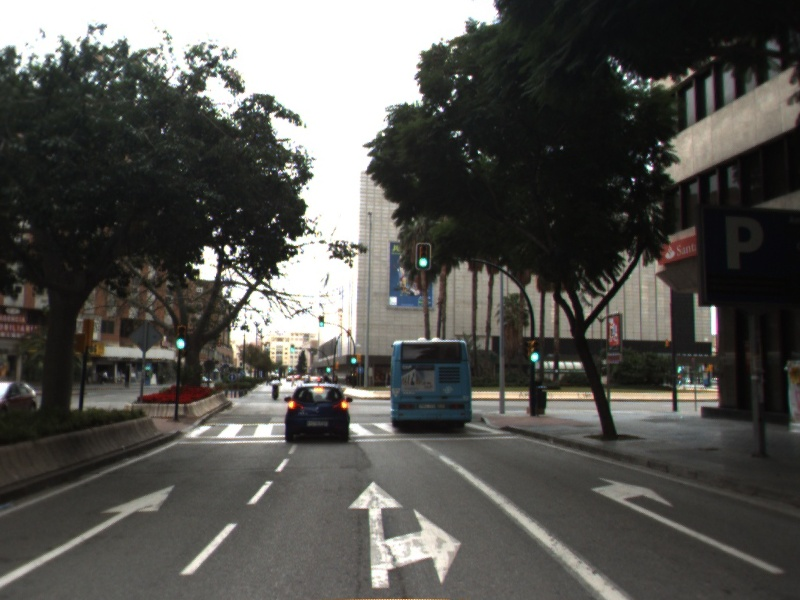RIGHT: (586, 473, 787, 577)
STRAIGHT: (1, 480, 179, 588)
STRAIGHT_RIGHT: (344, 476, 466, 592)
